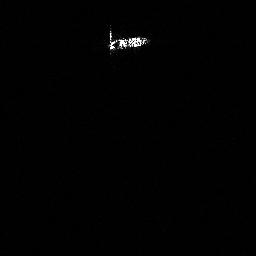ship: (102, 23, 153, 57)
